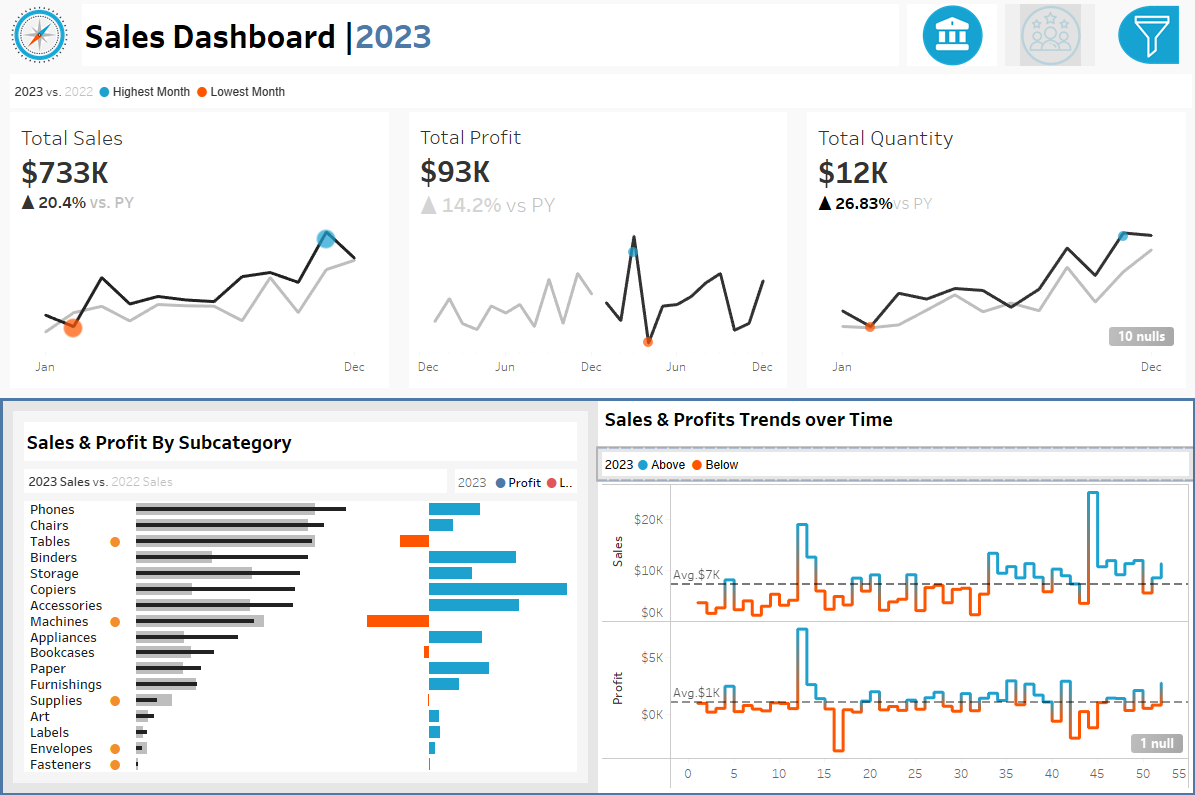

What the dashboard file says about the page in this screenshot:
{"tool":"tableau","page":{"name":"Sales Dashboard","canvas":[1200,800],"ordinal":0},"visuals":[{"type":"image","param":"Image/Icon - Logo.png","box":[2,2,78,70]},{"type":"text","box":[80,2,825,70]},{"type":"dashboard-object","box":[905,2,98,70]},{"type":"dashboard-object","box":[1003,2,98,70]},{"type":"dashboard-object","box":[1101,2,97,70]},{"type":"dashboard-object","box":[1140,14,24,24]},{"type":"text","box":[904,65,196,25]},{"type":"worksheet","title":"Legend Of KPI","mark":"Automatic","box":[2,72,1196,42]},{"type":"parameter","param":"[Parameters].[Parameter 1]","box":[904,90,196,44.3]},{"type":"worksheet","title":"KBI Sales","mark":"Automatic","rows":["Calculation_1274800206637449223"],"cols":["Order Date"],"box":[2,114,398.7,286]},{"type":"worksheet","title":"KBI Profit","mark":"Automatic","rows":["Calculation_1485062014315077646"],"cols":["Order Date"],"box":[400.7,114,398.7,286]},{"type":"worksheet","title":"KBI Quantity","mark":"Automatic","rows":["Calculation_1485062014333276180"],"cols":["Order Date"],"box":[799.3,114,398.7,286]},{"type":"blank","box":[904,134.3,196,50]},{"type":"text","box":[904,184.3,196,29]},{"type":"filter","title":"KBI Sales","param":"[federated.0rst9z61azxgnf176ankq0cskdbw].[none:Category:nk]","box":[904,213.3,196,44.3]},{"type":"filter","title":"KBI Sales","param":"[federated.0rst9z61azxgnf176ankq0cskdbw].[none:Sub-Category:nk]","box":[904,257.7,196,44.3]},{"type":"text","box":[904,302,196,29]},{"type":"filter","title":"KBI Sales","param":"[federated.0rst9z61azxgnf176ankq0cskdbw].[none:Region:nk]","box":[904,331,196,44.3]},{"type":"filter","title":"KBI Sales","param":"[federated.0rst9z61azxgnf176ankq0cskdbw].[none:State:nk]","box":[904,375.3,196,44.3]},{"type":"text","box":[600,403,595,34]},{"type":"filter","title":"KBI Sales","param":"[federated.0rst9z61azxgnf176ankq0cskdbw].[none:City:nk]","box":[904,419.6,196,44.4]},{"type":"text","box":[22,420,561,47]},{"type":"text","box":[600,450,595,32]},{"type":"worksheet","title":"Legend Subcatagory","mark":"Automatic","box":[22,467,431,32]},{"type":"text","box":[453,467,130,32]},{"type":"worksheet","title":"Weekly Trends","mark":"Automatic","rows":["Calculation_1274800206631469058","Calculation_1485062014301589512"],"cols":["Order Date"],"box":[600,482,595,313]},{"type":"worksheet","title":"Subcategory Comparision","mark":"Bar","rows":["Sub-Category","Calculation_1485062014343643160"],"cols":["CY Sales (copy)_1274800206632001540","Calculation_1274800206631469058","Calculation_1485062014301589512"],"box":[22,499,561,278.9]}]}

Visuals, with their boxes in screenshot pixels (x1, y1, x2, y2), scaled from the page's 1200x800 canvas onto the 1195x795 screenshot:
image: 2 2 80 72
text: 80 2 901 72
dashboard-object: 901 2 999 72
dashboard-object: 999 2 1096 72
dashboard-object: 1096 2 1193 72
dashboard-object: 1135 14 1159 38
text: 900 65 1095 89
"Legend Of KPI" worksheet: 2 72 1193 113
parameter: 900 89 1095 133
"KBI Sales" worksheet: 2 113 399 398
"KBI Profit" worksheet: 399 113 796 398
"KBI Quantity" worksheet: 796 113 1193 398
blank: 900 133 1095 183
text: 900 183 1095 212
"KBI Sales" filter: 900 212 1095 256
"KBI Sales" filter: 900 256 1095 300
text: 900 300 1095 329
"KBI Sales" filter: 900 329 1095 373
"KBI Sales" filter: 900 373 1095 417
text: 598 400 1190 434
"KBI Sales" filter: 900 417 1095 461
text: 22 417 581 464
text: 598 447 1190 479
"Legend Subcatagory" worksheet: 22 464 451 496
text: 451 464 581 496
"Weekly Trends" worksheet: 598 479 1190 790
"Subcategory Comparision" worksheet (Bar marks): 22 496 581 773
